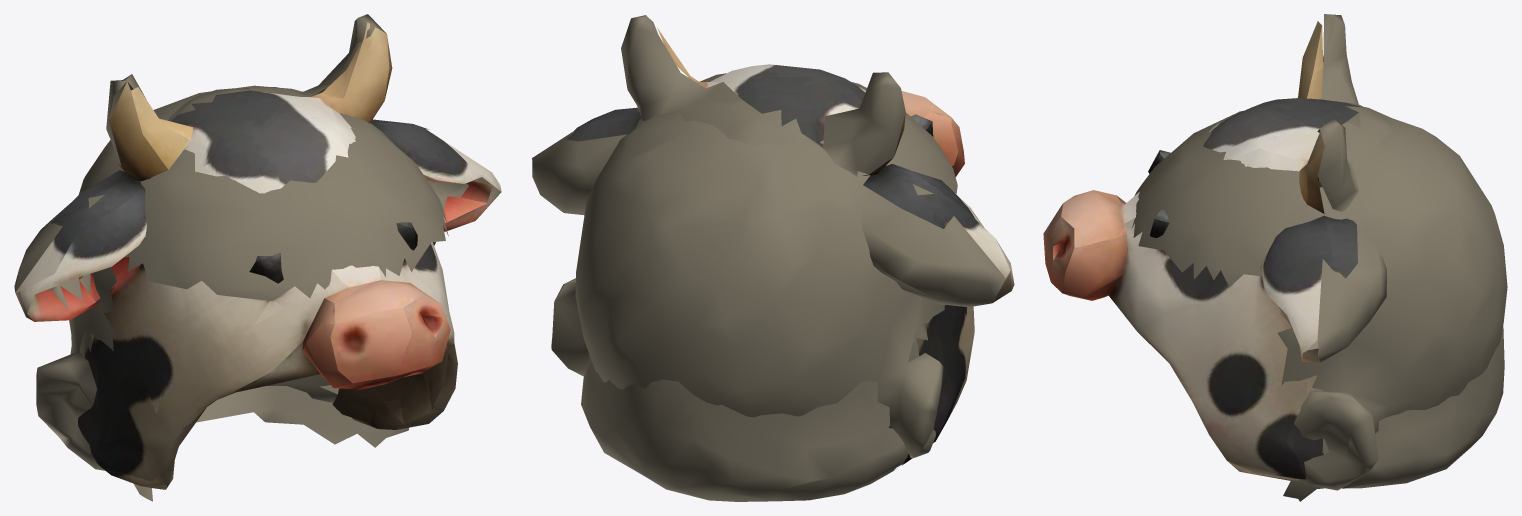
Rendered from cow.glb.
3 views of the same model, side by side, from view 1: azimuth 30°, elevation 25°; view 2: azimuth 150°, elevation 25°; view 3: azimuth 270°, elevation 25° (orthographic). The views are drawn at different scales.
Visible parts, largest first — view 1: geometry_0, HoodAnatomicalLining; view 2: HoodAnatomicalLining, geometry_0; view 3: geometry_0, HoodAnatomicalLining.
Boxes of the visible parts, left/top/right/bottom form: geometry_0: left=14, top=14, right=501, bottom=489; HoodAnatomicalLining: left=36, top=85, right=448, bottom=501; HoodAnatomicalLining: left=551, top=73, right=957, bottom=466; geometry_0: left=532, top=15, right=1014, bottom=501; geometry_0: left=1043, top=14, right=1504, bottom=488; HoodAnatomicalLining: left=1131, top=107, right=1507, bottom=501.
Bounding box in the file's own units: 0.5823 × 0.4828 × 0.5291.
2 materials, 1 textured.
